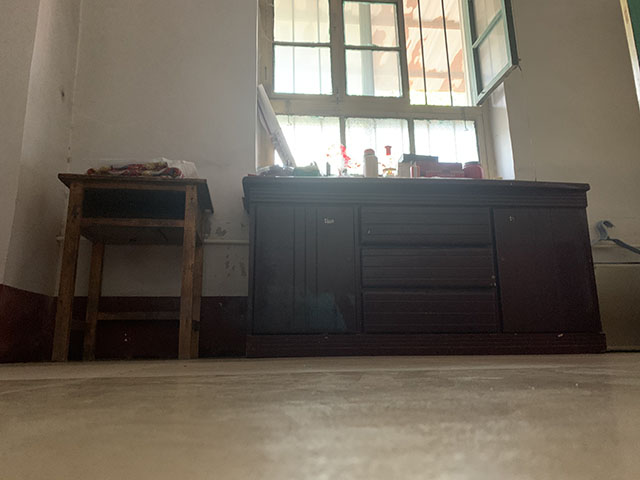cabinet: (239, 175, 609, 359)
table: (50, 172, 216, 363)
